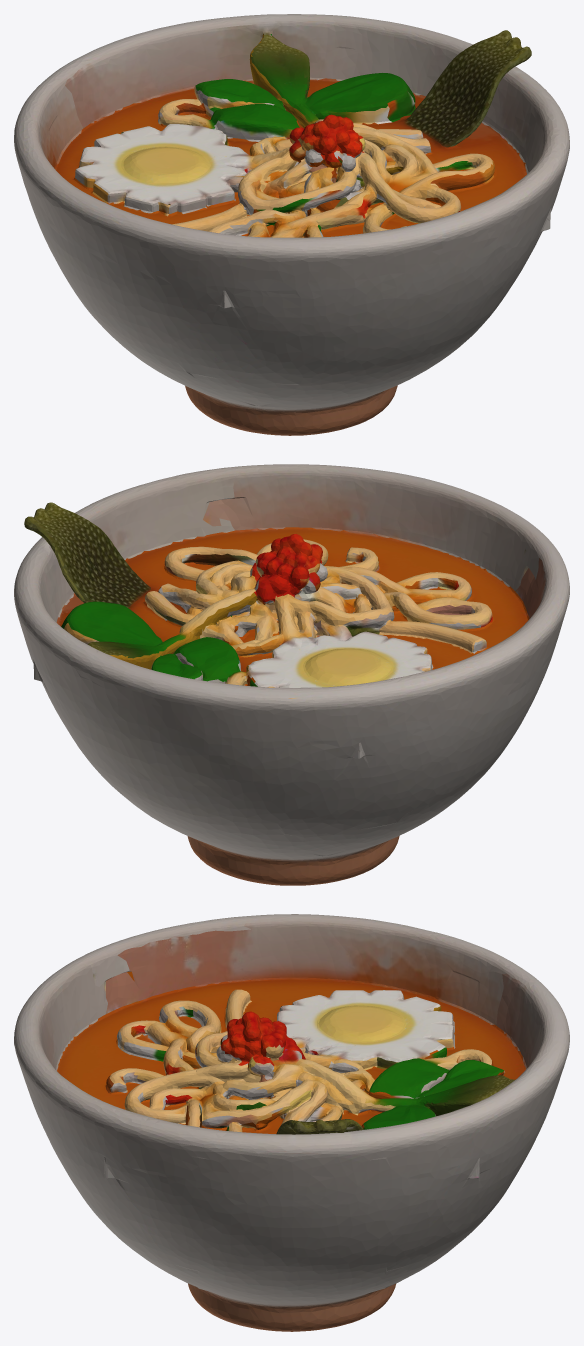
The model's file is garak_bowl.glb.
3 renders of one model, top to bottom at view 1: azimuth 30°, elevation 25°; view 2: azimuth 150°, elevation 25°; view 3: azimuth 270°, elevation 25°, orthographic.
Visible parts, largest first — view 1: garak_bowl.obj; view 2: garak_bowl.obj; view 3: garak_bowl.obj.
Boxes of the visible parts, x1=… form: garak_bowl.obj: x1=14, y1=14, x2=569, y2=435; garak_bowl.obj: x1=14, y1=464, x2=569, y2=885; garak_bowl.obj: x1=14, y1=914, x2=569, y2=1331.
Bounding box in the file's own units: 1.97 × 1.13 × 1.97.
Materials: 1 (1 with a texture image).
